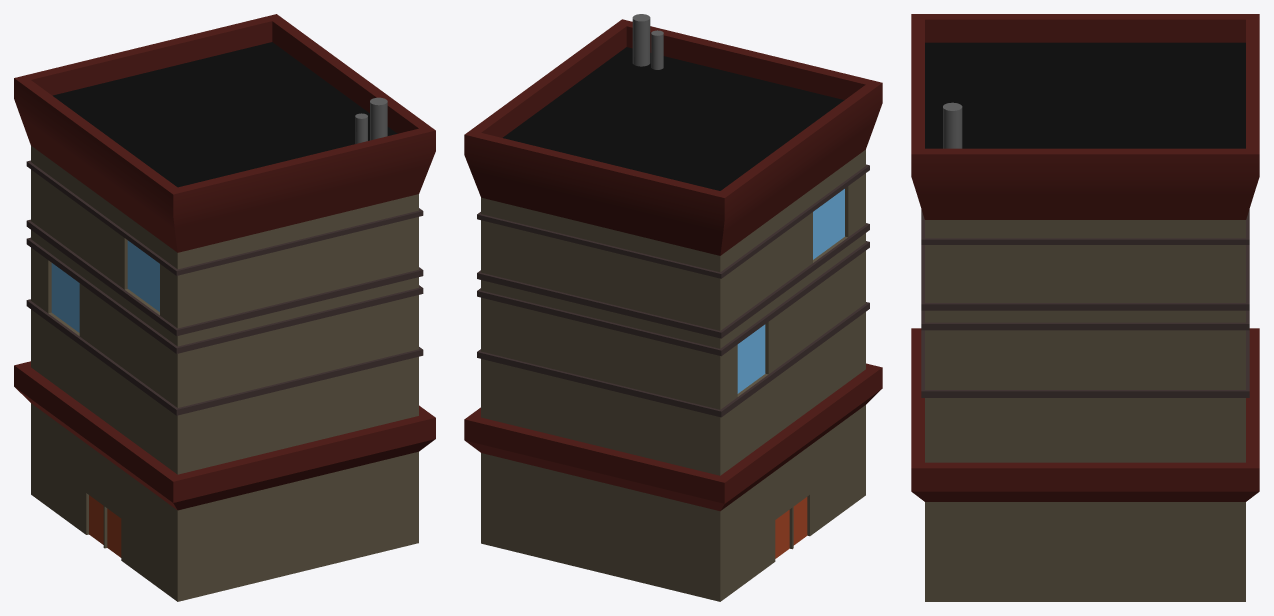
The model's file is BuildingVer2.fbx.
3 views of the same model, side by side, from view 1: azimuth 30°, elevation 25°; view 2: azimuth 150°, elevation 25°; view 3: azimuth 270°, elevation 25° (orthographic). The views are drawn at different scales.
Parts seen in each view (by area): view 1: Box002; view 2: Box002; view 3: Box002.
Part boxes in pixels (<box>): Box002: <box>14,14,435,601</box>; Box002: <box>464,14,882,601</box>; Box002: <box>911,14,1259,601</box>.
Size of the model in its own units: 683 by 1091 by 717.
